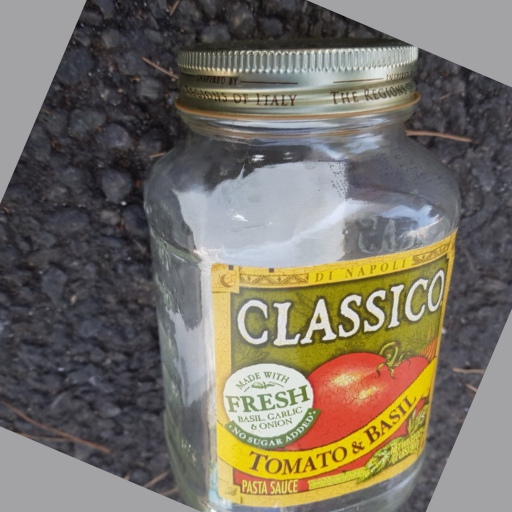Glass_5: (140, 40, 458, 512)
